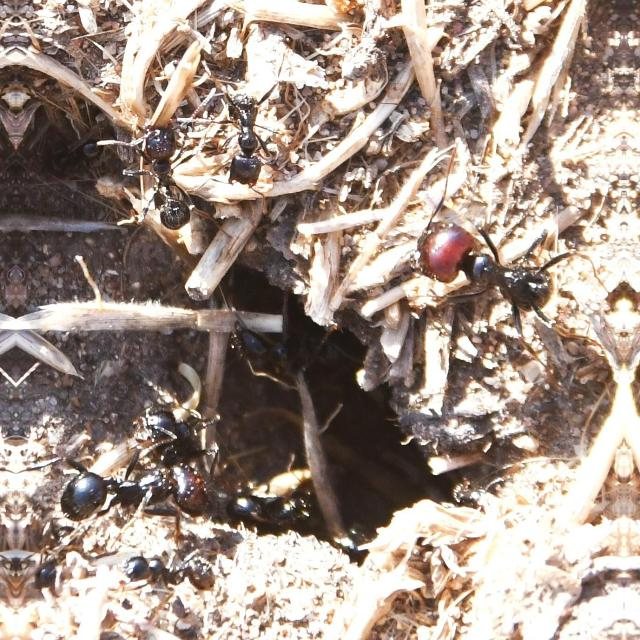Messor: (404, 199, 574, 313), (62, 441, 214, 542), (106, 102, 194, 235), (182, 78, 286, 185), (127, 384, 225, 484), (227, 478, 333, 558), (114, 543, 222, 599), (23, 124, 107, 188)
